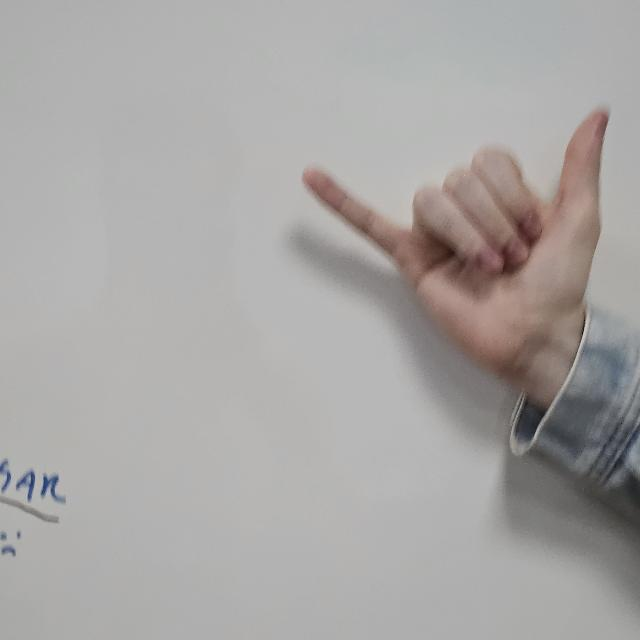Direita: (296, 102, 612, 404)
